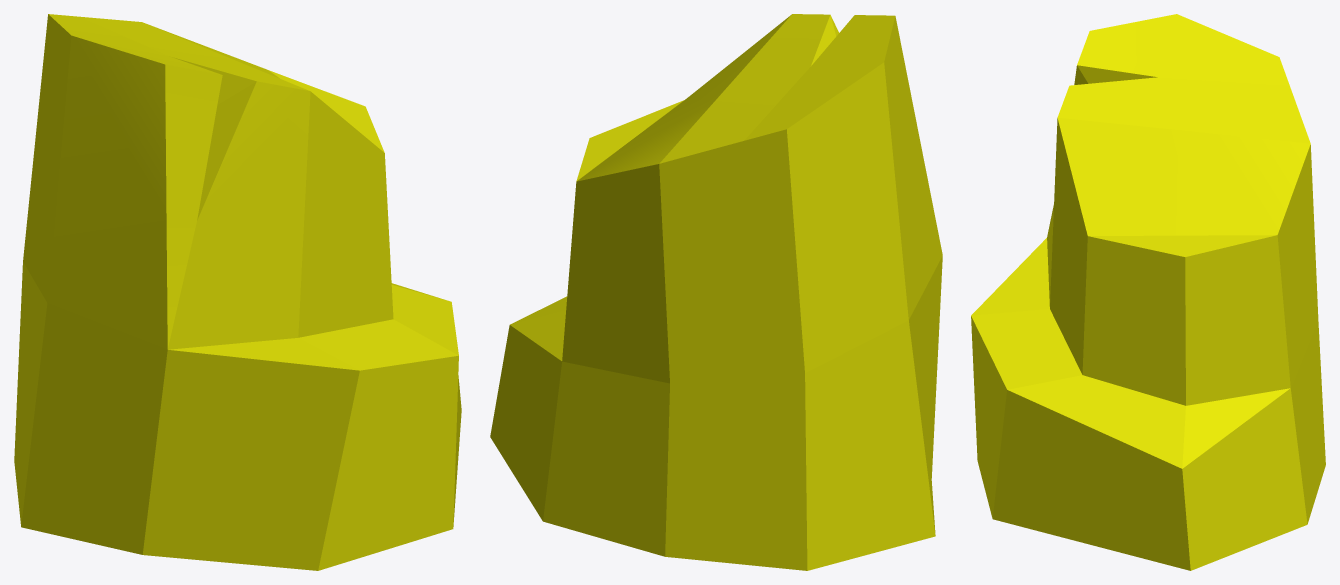
3 views of the same model, side by side, from view 1: azimuth 30°, elevation 25°; view 2: azimuth 150°, elevation 25°; view 3: azimuth 270°, elevation 25° (orthographic). The views are drawn at different scales.
Parts seen in each view (by area): view 1: rock_02; view 2: rock_02; view 3: rock_02.
Boxes of the visible parts, <box> form: rock_02: <box>14,14,461,570</box>; rock_02: <box>490,14,942,570</box>; rock_02: <box>971,14,1325,570</box>.
Bounding box in the file's own units: 6.62 × 6.79 × 5.46.
Materials: 1 (1 with a texture image).
